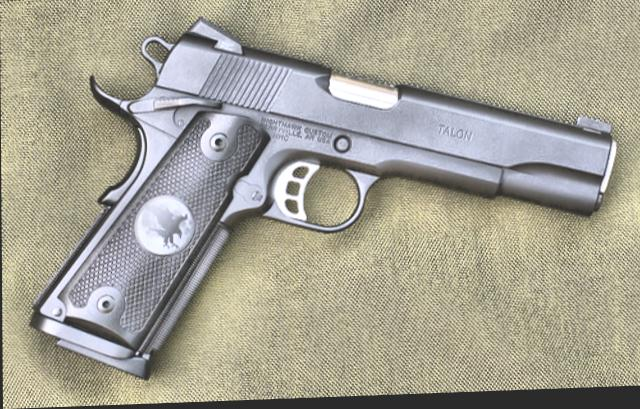pistol: (22, 6, 620, 382)
